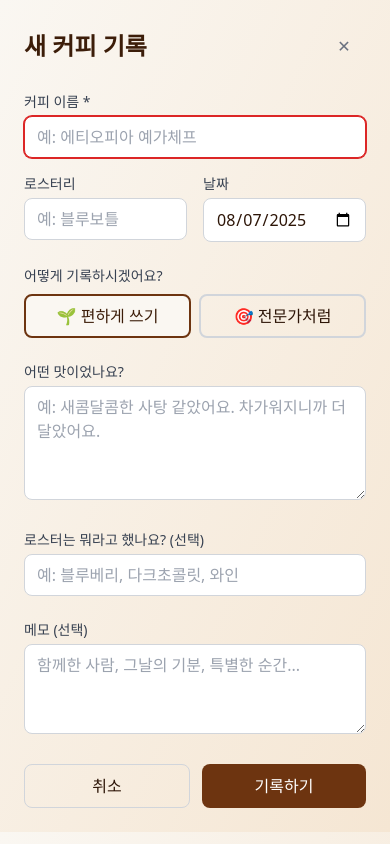
Test: CoffeeRecordForm › handles taste mode switching correctly
The image size is (390, 844).
Note: Switch to professional mode
Click the button "🎯 전문가처럼" at (282, 316), box [199,294,366,338]
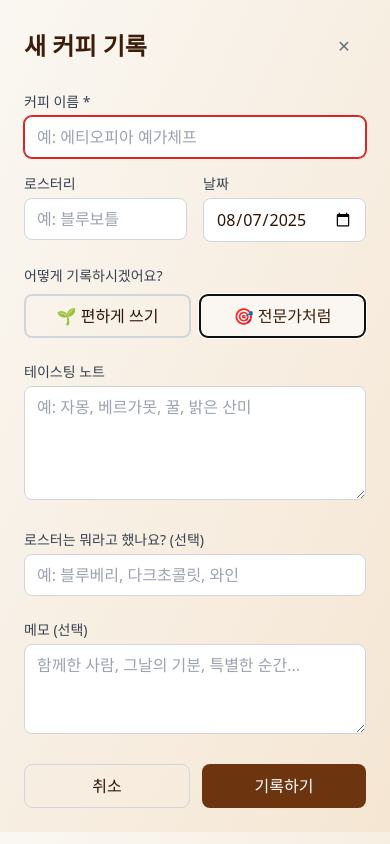
Expected: the text "테이스팅 노트" is shown, [24,362,105,381]
Expected: the text box with placeholder "예: 자몽, 베르가못, 꿀, 밝은 산미" is shown, [24,386,366,500]
Note: Switch back to simple mode
Click the button "🌱 편하게 쓰기" at (108, 316), box [24,294,191,338]
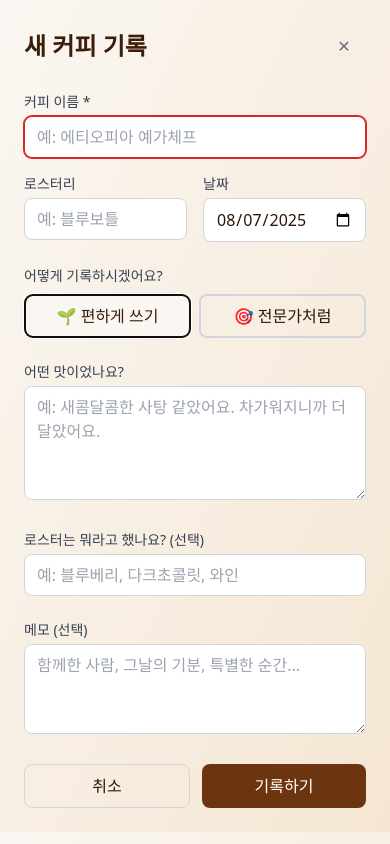
Expected: the text "어떤 맛이었나요?" is shown, [24,362,124,381]
Expected: the text box with placeholder "예: 새콤달콤한 사탕 같았어요. 차가워지니까 더 달았어요." is shown, [24,386,366,500]
